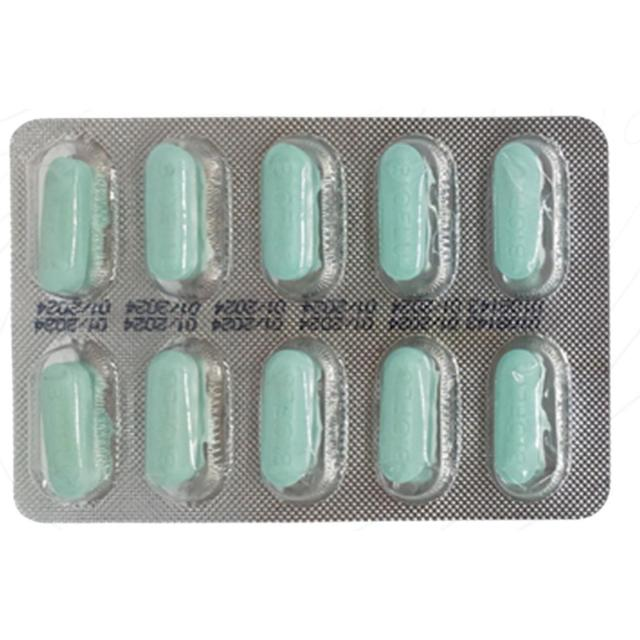blister: (7, 112, 616, 531)
